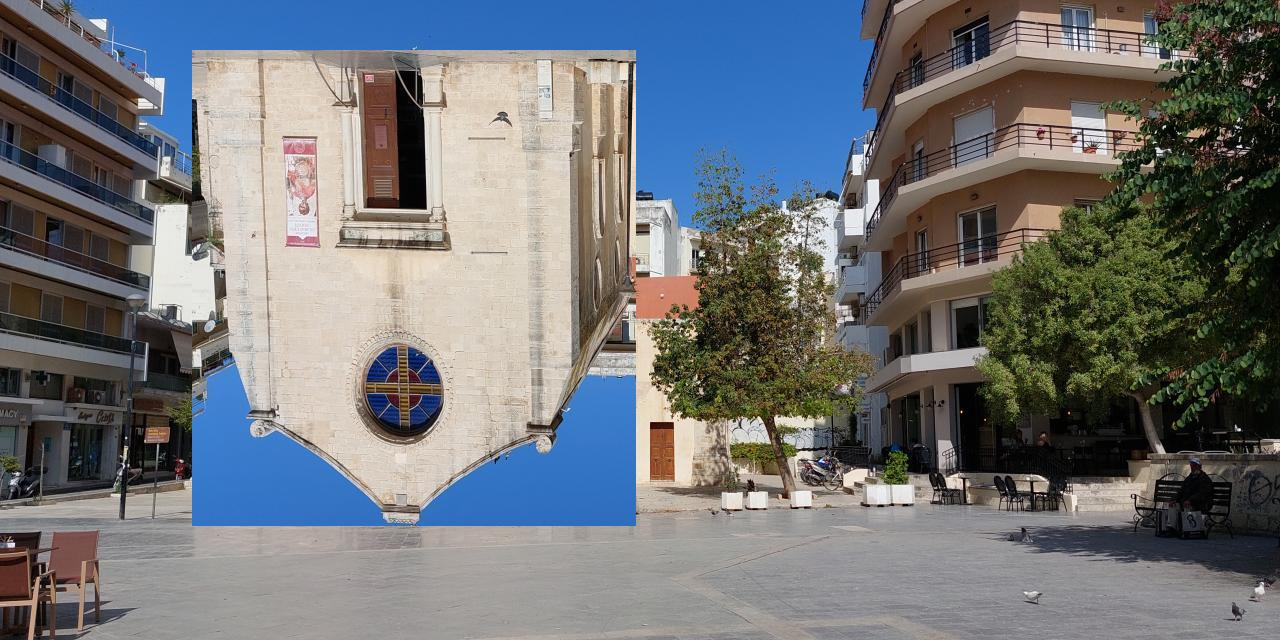Agia Aikaterini: (193, 51, 637, 527)
